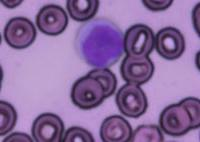L: (74, 17, 125, 70)
